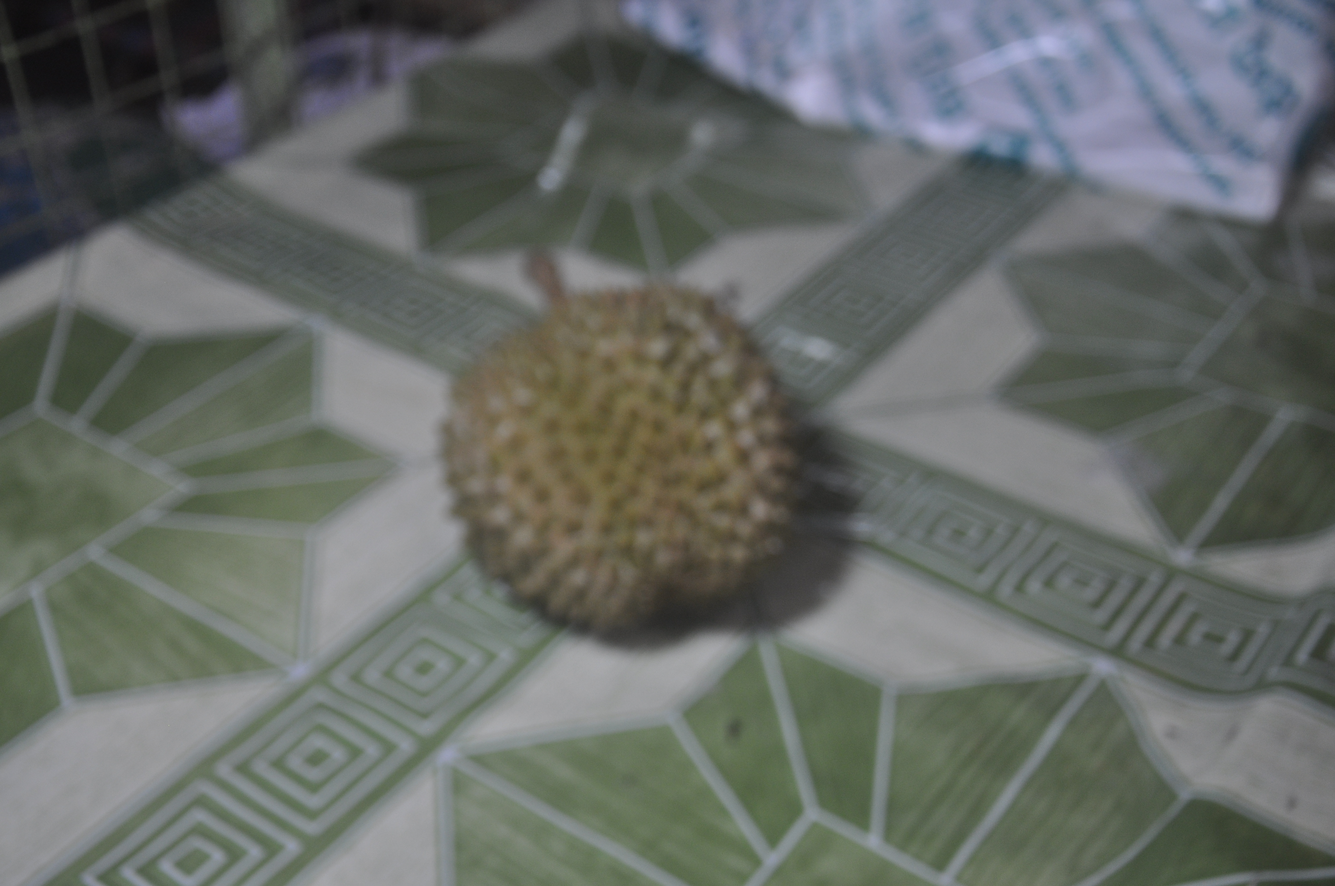mature: (430, 231, 875, 659)
